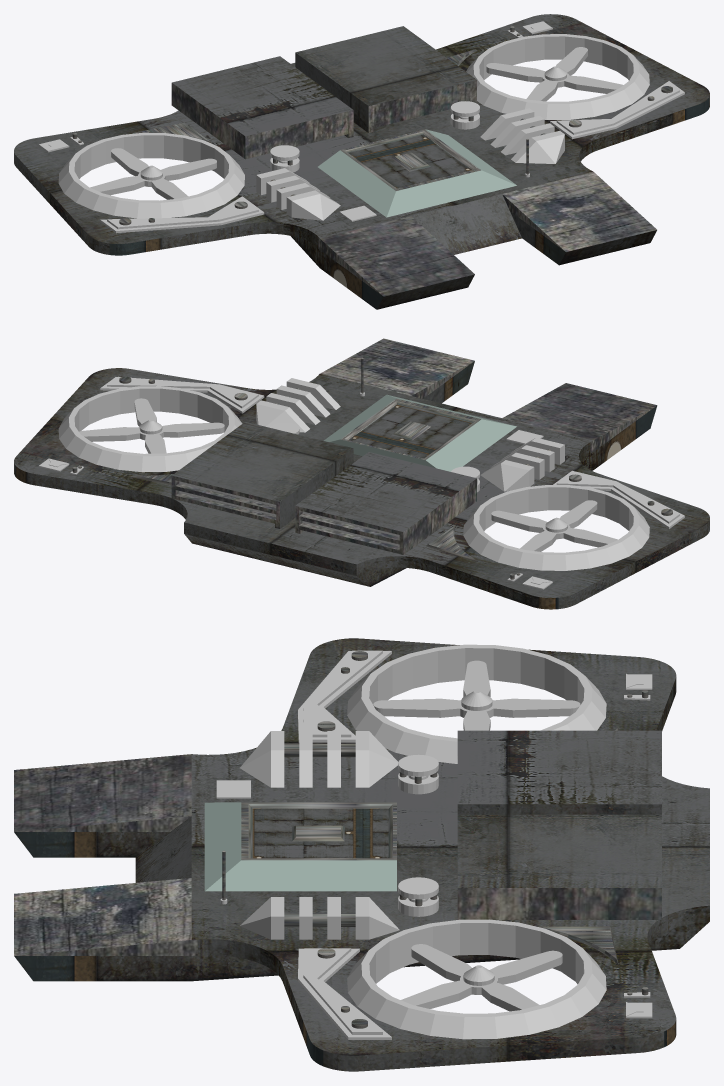
The model's file is Remaker.fbx.
3 views of the same model, one above another, from view 1: azimuth 30°, elevation 25°; view 2: azimuth 150°, elevation 25°; view 3: azimuth 270°, elevation 25° (orthographic). The views are drawn at different scales.
Visible parts, largest first — view 1: Body, Pro_L, Pro_R; view 2: Body, Pro_R, Pro_L; view 3: Body, Pro_L, Pro_R.
Boxes of the visible parts, x1,y1,x2,y2 form: Body: (14, 14, 709, 309); Pro_L: (486, 47, 623, 101); Pro_R: (90, 148, 216, 199); Body: (14, 338, 709, 609); Pro_R: (491, 500, 617, 551); Pro_L: (79, 398, 224, 453); Body: (14, 638, 709, 1071); Pro_L: (401, 944, 562, 1011); Pro_R: (373, 660, 580, 730).
Size of the model in its own units: 0.8335 by 0.0866 by 0.5875.
